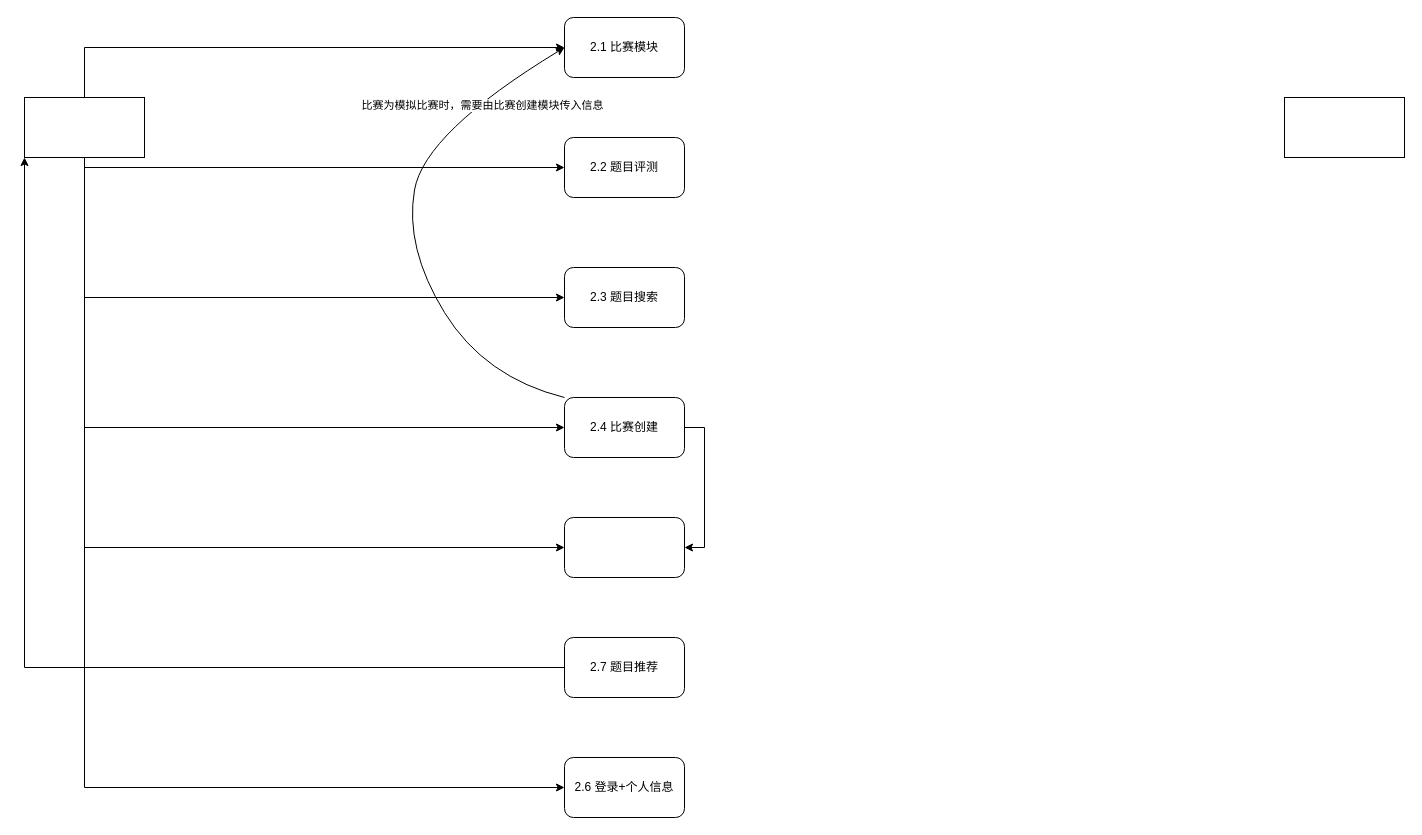
The diagram is 1422 pixels wide and 835 high, and some of its shapes have lost their labels. The box of each missing label's shape, as (x1, y1, x2, y2) in pixels:
2.5 题单创建: (564, 516, 684, 578)
用户: (24, 96, 144, 158)
网站: (1284, 96, 1404, 158)
